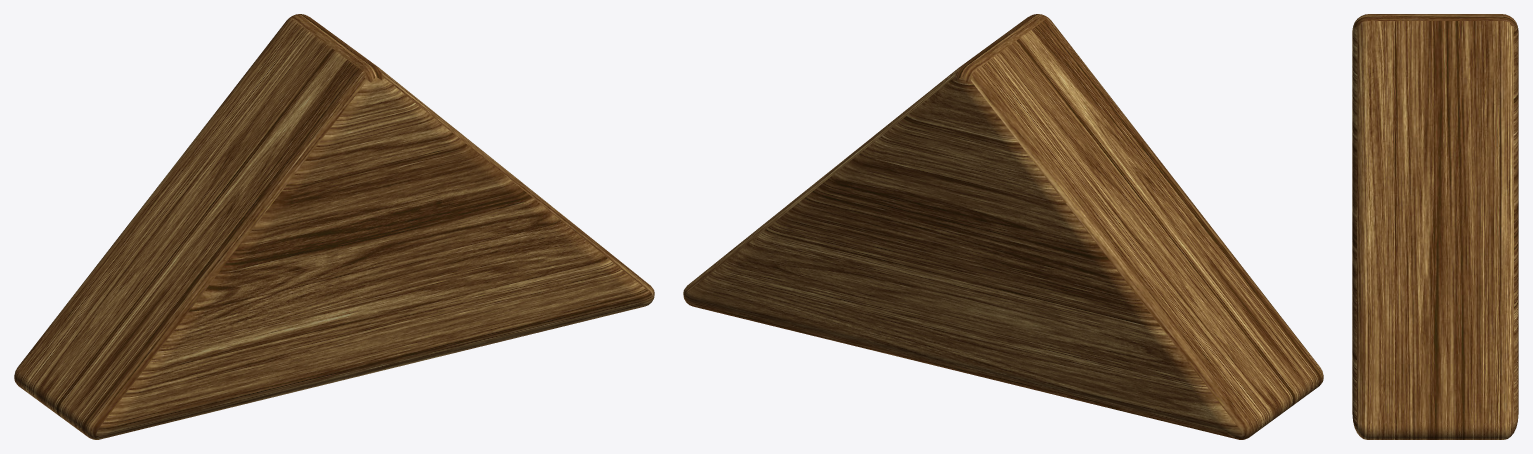
File: cornerBlock.obj
3 views of the same model, side by side, from view 1: azimuth 30°, elevation 25°; view 2: azimuth 150°, elevation 25°; view 3: azimuth 270°, elevation 25° (orthographic). The views are drawn at different scales.
Parts seen in each view (by area): view 1: pCube1; view 2: pCube1; view 3: pCube1.
Part boxes in pixels (bbox=[...]): pCube1: bbox=[14, 14, 654, 439]; pCube1: bbox=[683, 14, 1323, 439]; pCube1: bbox=[1352, 14, 1518, 439].
Size of the model in its own units: 381 by 196 by 100.
